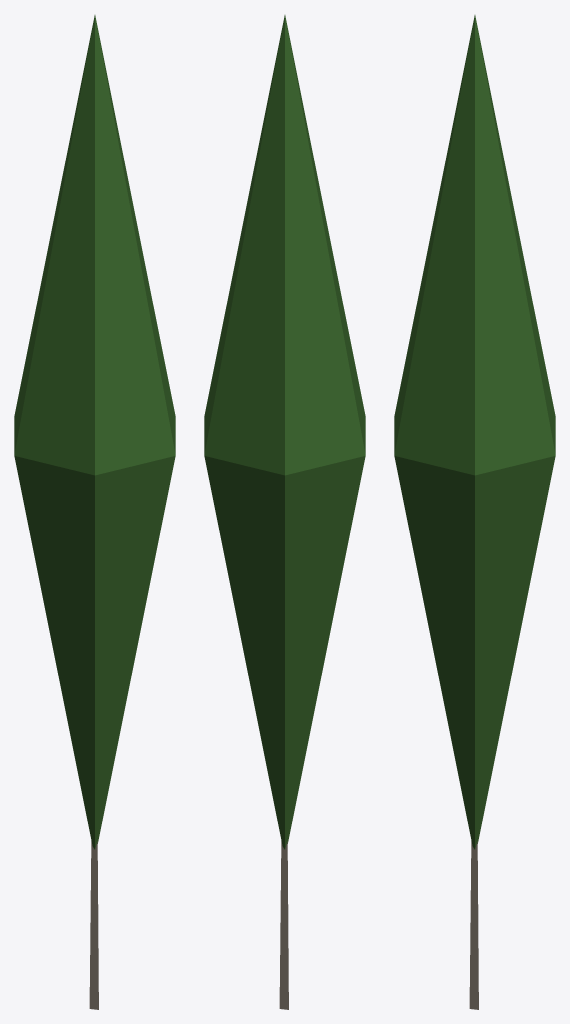
File: peuplier_loin.glb
3 renders of one model, left to right at view 1: azimuth 30°, elevation 25°; view 2: azimuth 150°, elevation 25°; view 3: azimuth 270°, elevation 25°, orthographic.
Parts seen in each view (by area): view 1: peuplier_loin; view 2: peuplier_loin; view 3: peuplier_loin.
Part boxes in pixels (x1,y1,x2,y2): peuplier_loin: [14, 15, 175, 1009]; peuplier_loin: [204, 15, 365, 1009]; peuplier_loin: [394, 15, 555, 1009].
Size of the model in its own units: 3.6 by 21.2 by 3.12.
1 material, 1 textured.
